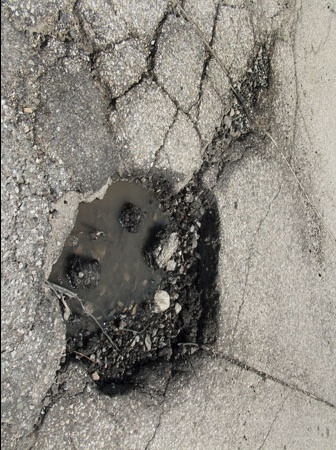pothole: (47, 183, 232, 398), (212, 57, 276, 166)
